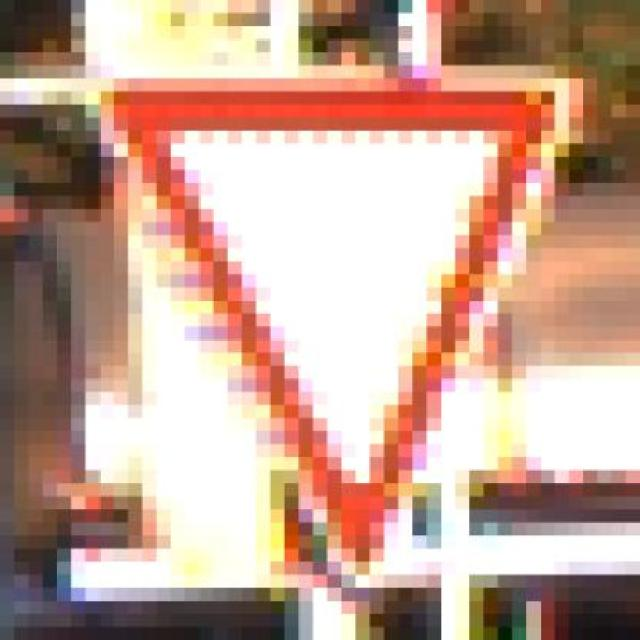Give Way: (99, 65, 612, 613)
